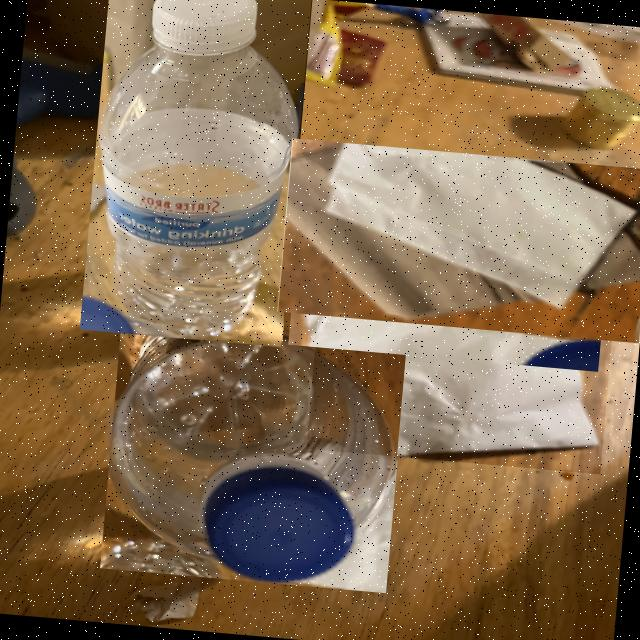Other plastic container: (109, 309, 395, 584), (97, 0, 300, 340)
Tissues: (286, 146, 640, 321), (297, 188, 605, 347), (318, 316, 602, 456)
